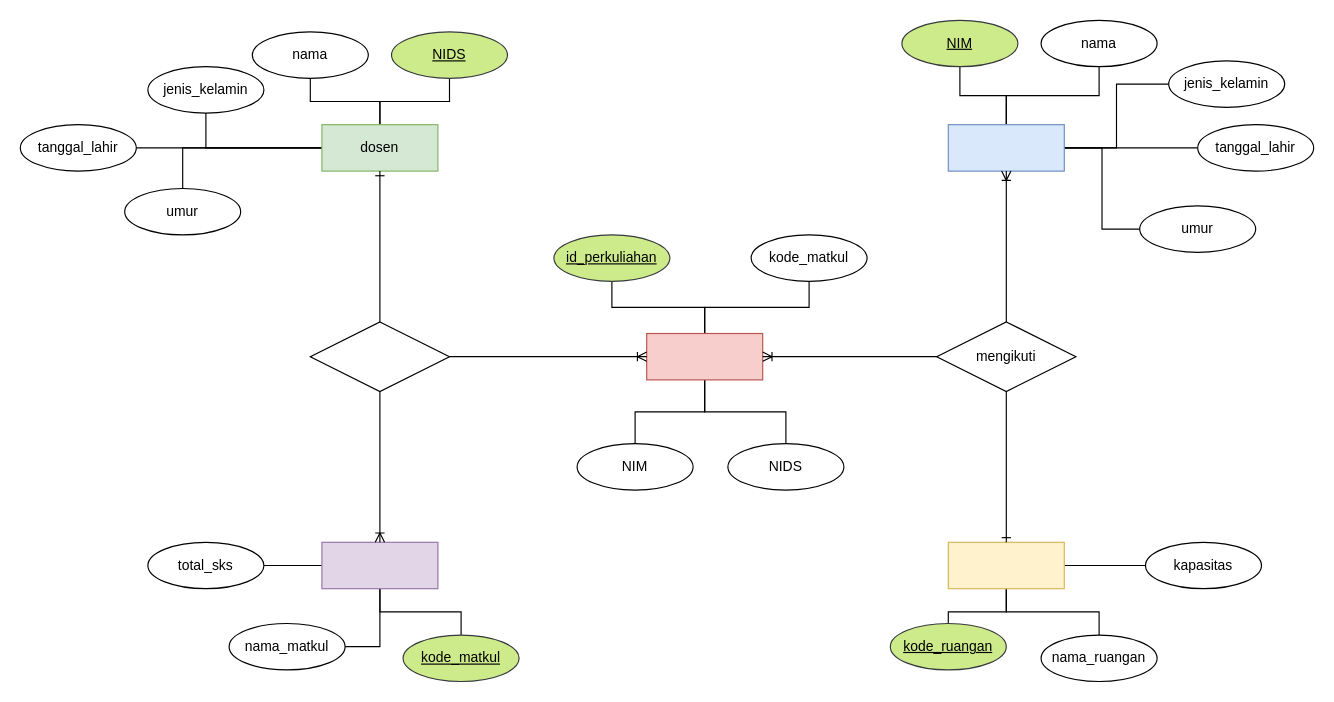
This 1334x702 diagram has some shape labels left out. The box of each missing label's shape, as (x1, y1, x2, y2) in pixels:
mahasiswa: (947, 124, 1064, 171)
mata_kuliah: (321, 541, 438, 589)
mengajar: (309, 321, 449, 392)
perkuliahan: (646, 332, 763, 380)
ruangan: (947, 541, 1064, 589)
